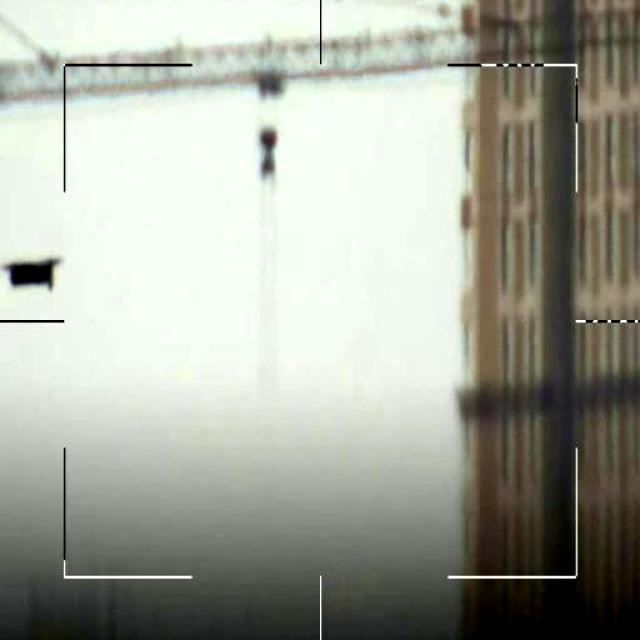bird: (5, 254, 56, 286)
